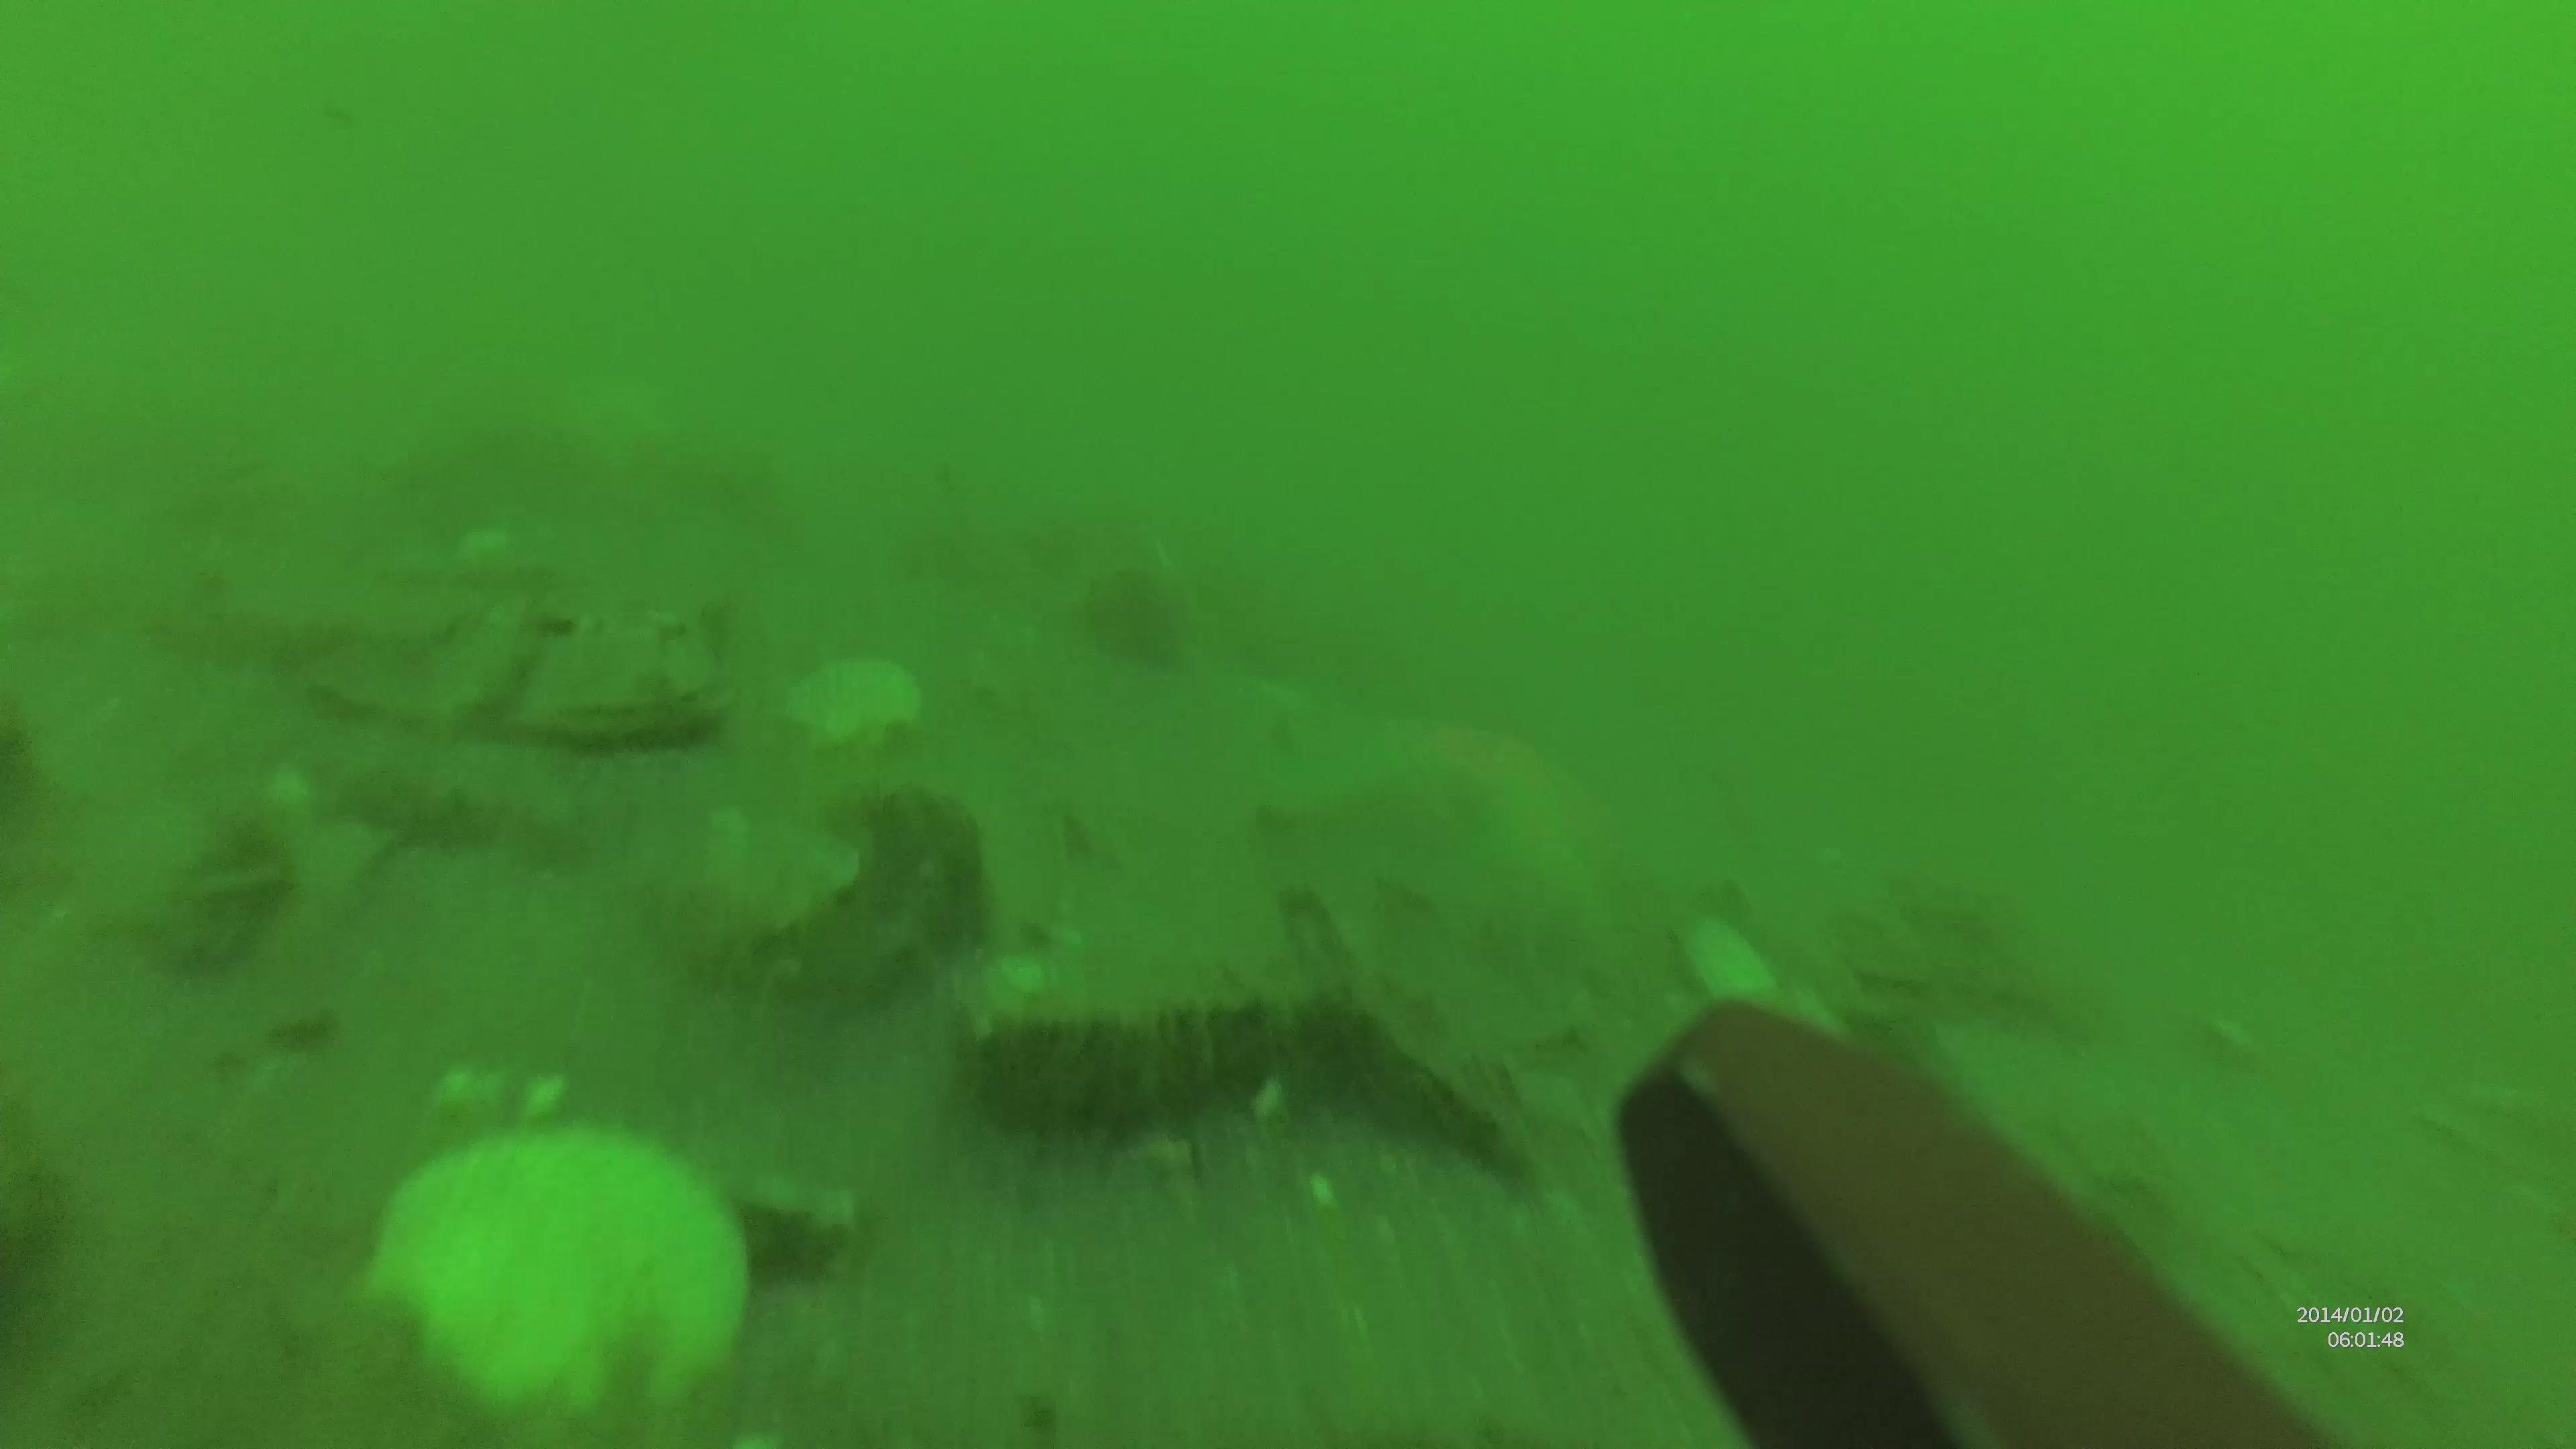scallop: (379, 1123, 752, 1426), (782, 653, 927, 754)
